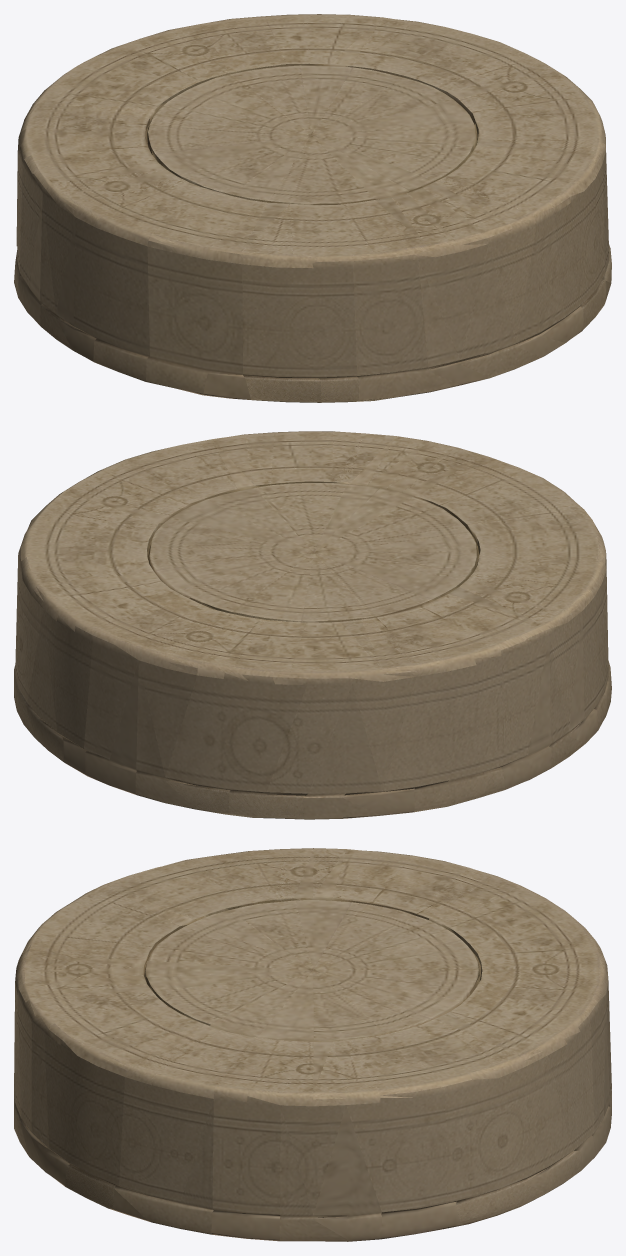
The model's file is monkey_stone.glb.
3 renders of one model, top to bottom at view 1: azimuth 30°, elevation 25°; view 2: azimuth 150°, elevation 25°; view 3: azimuth 270°, elevation 25°, orthographic.
Visible parts, largest first — view 1: mesh_node; view 2: mesh_node; view 3: mesh_node.
Part boxes in pixels (left/top/right/bottom): mesh_node: left=14, top=14, right=611, bottom=402; mesh_node: left=14, top=431, right=611, bottom=819; mesh_node: left=14, top=848, right=611, bottom=1241.
Bounding box in the file's own units: 1 × 0.2686 × 1.
1 material, 1 textured.
